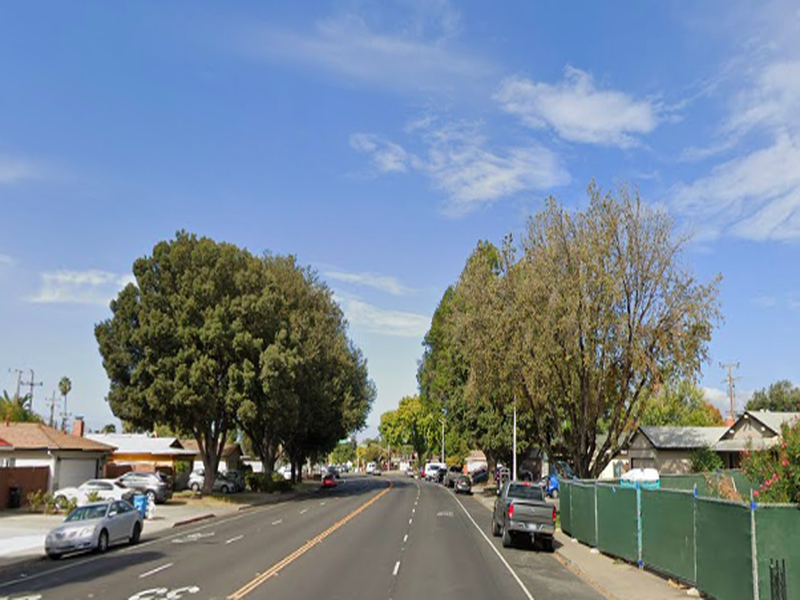tree: (445, 176, 725, 493), (94, 228, 296, 499), (419, 238, 547, 493), (222, 254, 316, 487), (275, 280, 375, 489)
